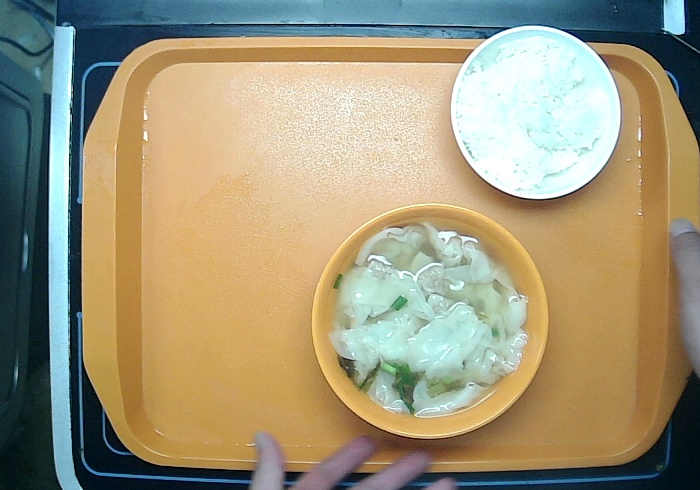NLDX-Fan_Wan: (445, 20, 624, 211)
NLDX-Hun_Tun_Wan: (311, 199, 552, 449)
